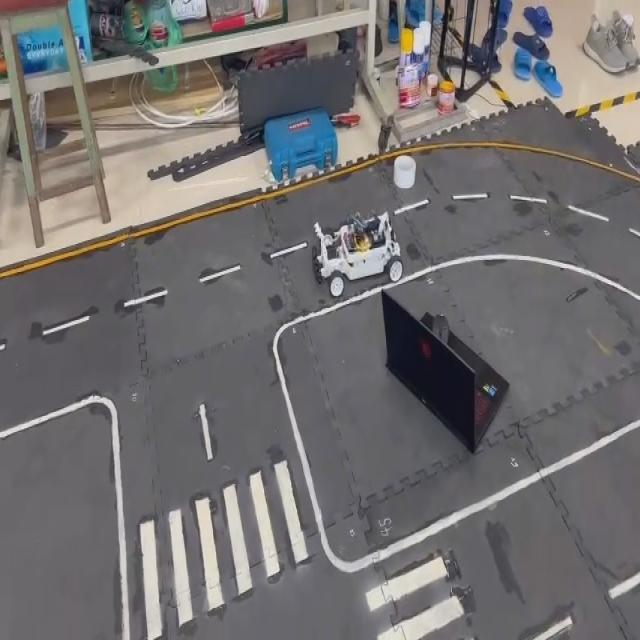SiCo-CAR: (311, 206, 404, 298)
